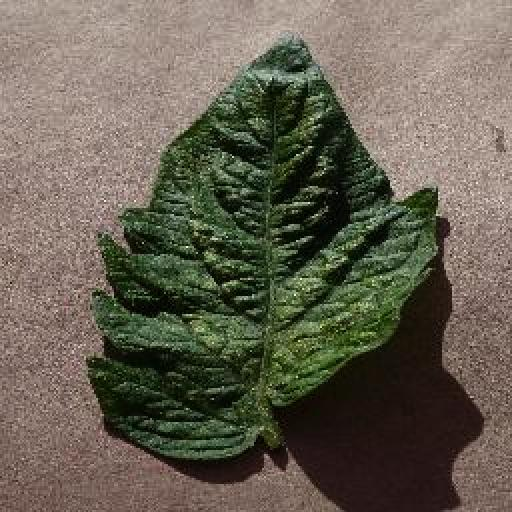disease_tomato: (88, 34, 438, 460)
